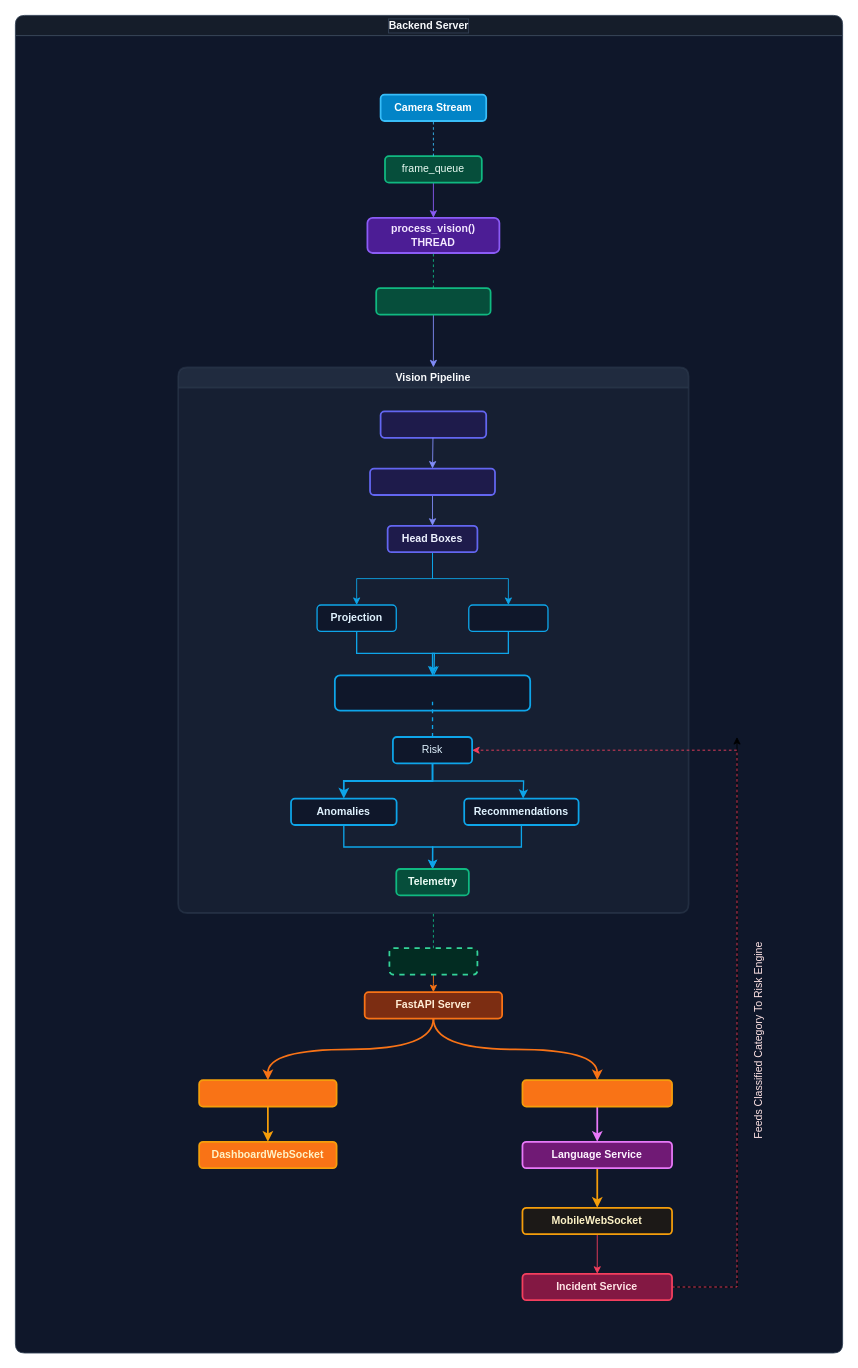
Some shapes in this 858 by 1368 pixel diagram are drawn without their labels. Each missing label, with the centre of its shape:
frame + timestamp: the point at 433,301
Frame Stabilizer: the point at 433,424
Helbing Crowd Turbulence Model (Pressure): the point at 432,692
Latest Telemetry: the point at 433,961
MobileConnectionManager: the point at 596,1093
Motion: the point at 508,618
WebConnectionManager: the point at 267,1093
YOLO Head Detector: the point at 432,481
